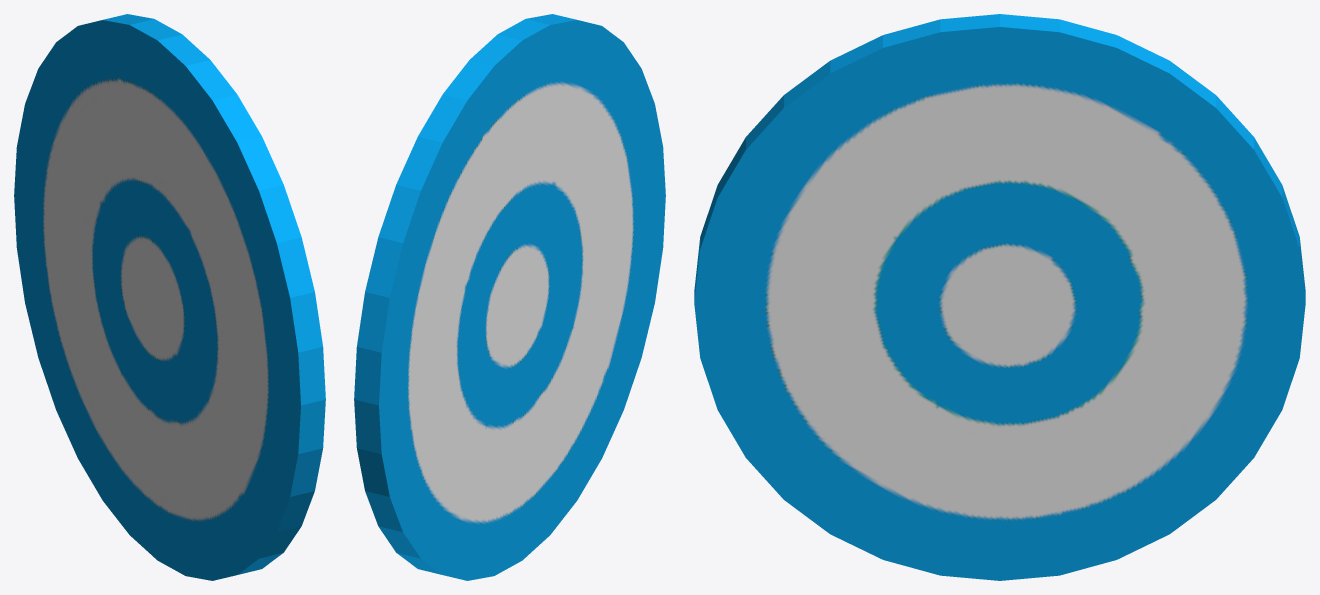
The model's file is target2.obj.
3 views of the same model, side by side, from view 1: azimuth 30°, elevation 25°; view 2: azimuth 150°, elevation 25°; view 3: azimuth 270°, elevation 25° (orthographic). The views are drawn at different scales.
Parts seen in each view (by area): view 1: 円柱; view 2: 円柱; view 3: 円柱.
Part boxes in pixels (bbox=[...]): 円柱: bbox=[14, 14, 325, 580]; 円柱: bbox=[354, 14, 665, 580]; 円柱: bbox=[694, 14, 1305, 580].
Bounding box in the file's own units: 0.05 × 1 × 1.
1 material, 1 textured.
